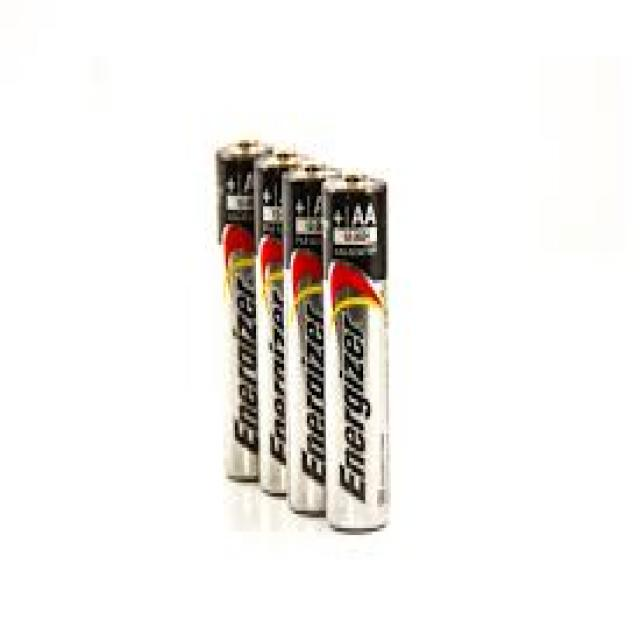non-organic waste: (322, 174, 392, 532), (214, 129, 272, 486), (285, 158, 340, 514), (255, 149, 302, 502)
